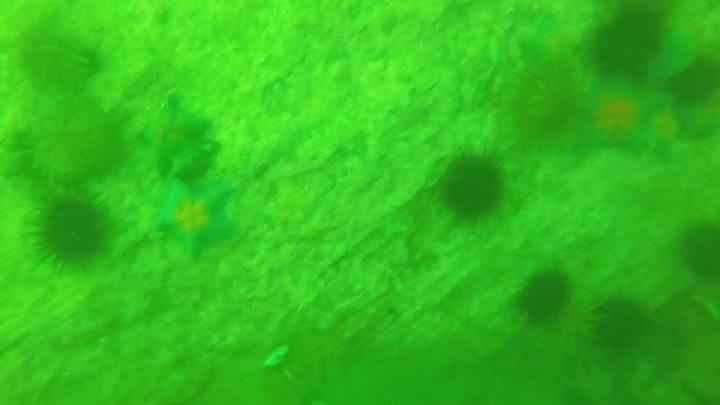echinus: (18, 94, 129, 187), (11, 13, 99, 97), (28, 191, 114, 271), (507, 62, 583, 147), (586, 5, 670, 80), (436, 150, 510, 225), (514, 267, 574, 325), (589, 295, 650, 352), (666, 55, 719, 108), (676, 217, 719, 282)
starfish: (568, 70, 675, 161), (151, 177, 240, 262), (130, 90, 211, 175), (652, 14, 715, 80), (517, 14, 582, 76), (636, 104, 688, 162)
